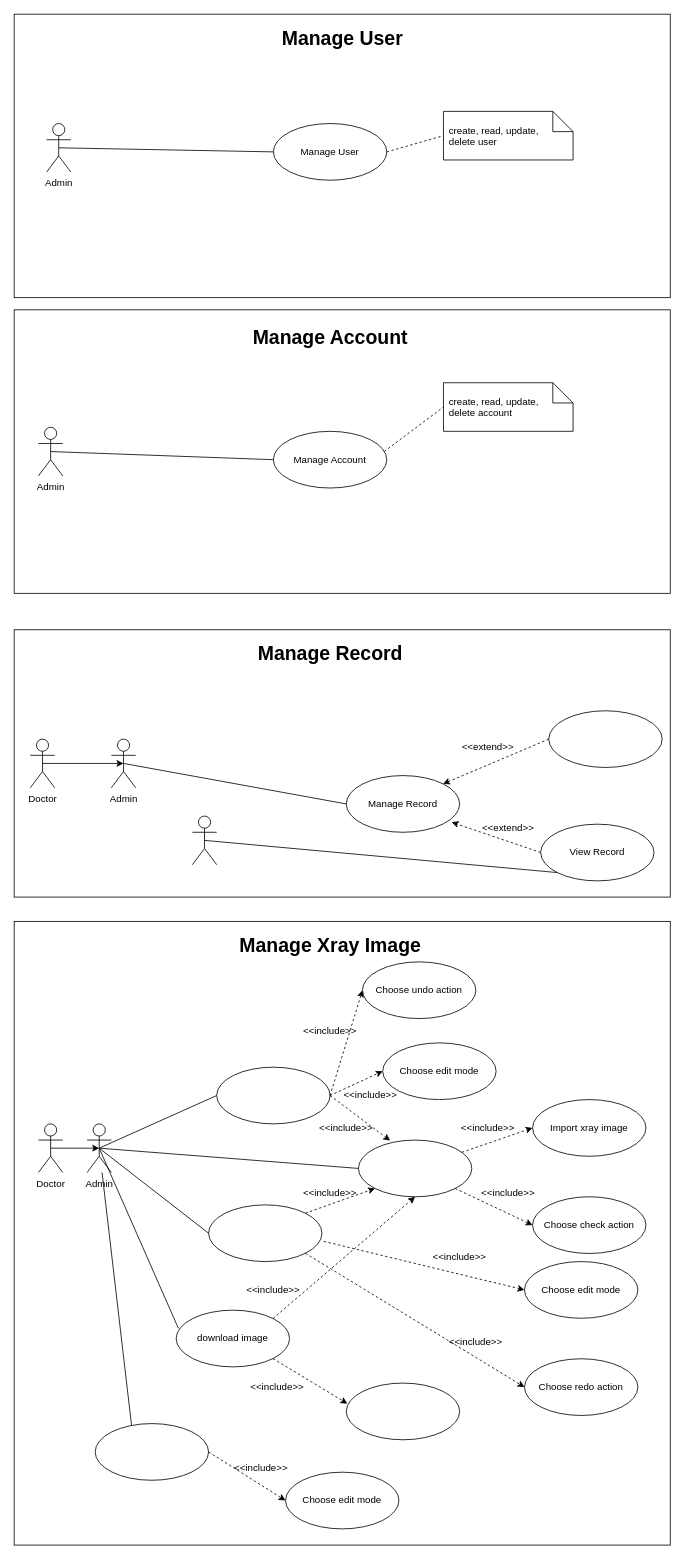
The diagram is 684 pixels wide and 1559 high, and some of its shapes have lost their labels. The shapes that lost their labels are listed below. From the top down, each one's box as (x1, y1, x2, y2) in pixels, then its label:
(548, 710, 662, 767): Add Record
(192, 815, 217, 865): Patient
(216, 1066, 330, 1124): Undo action
(358, 1139, 472, 1197): Check xray image
(208, 1204, 322, 1262): Redo action
(345, 1382, 460, 1440): Choose download action
(94, 1423, 209, 1480): Edit xray image
